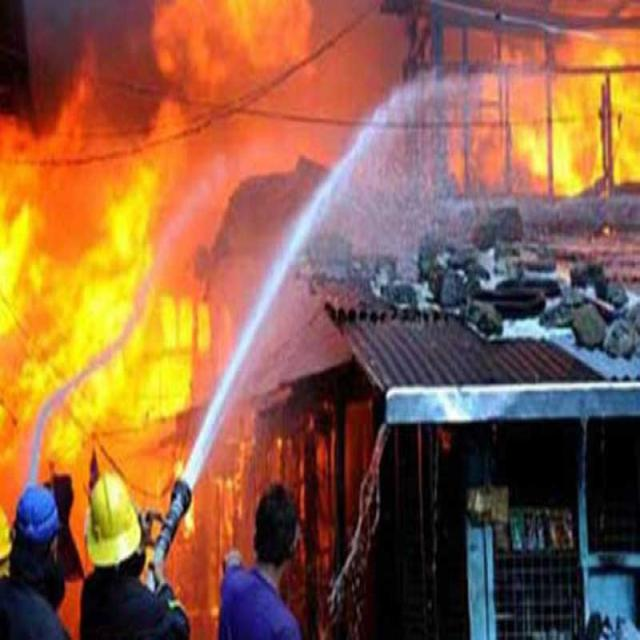Fire: (1, 109, 212, 536), (461, 0, 640, 186), (152, 0, 318, 90)
